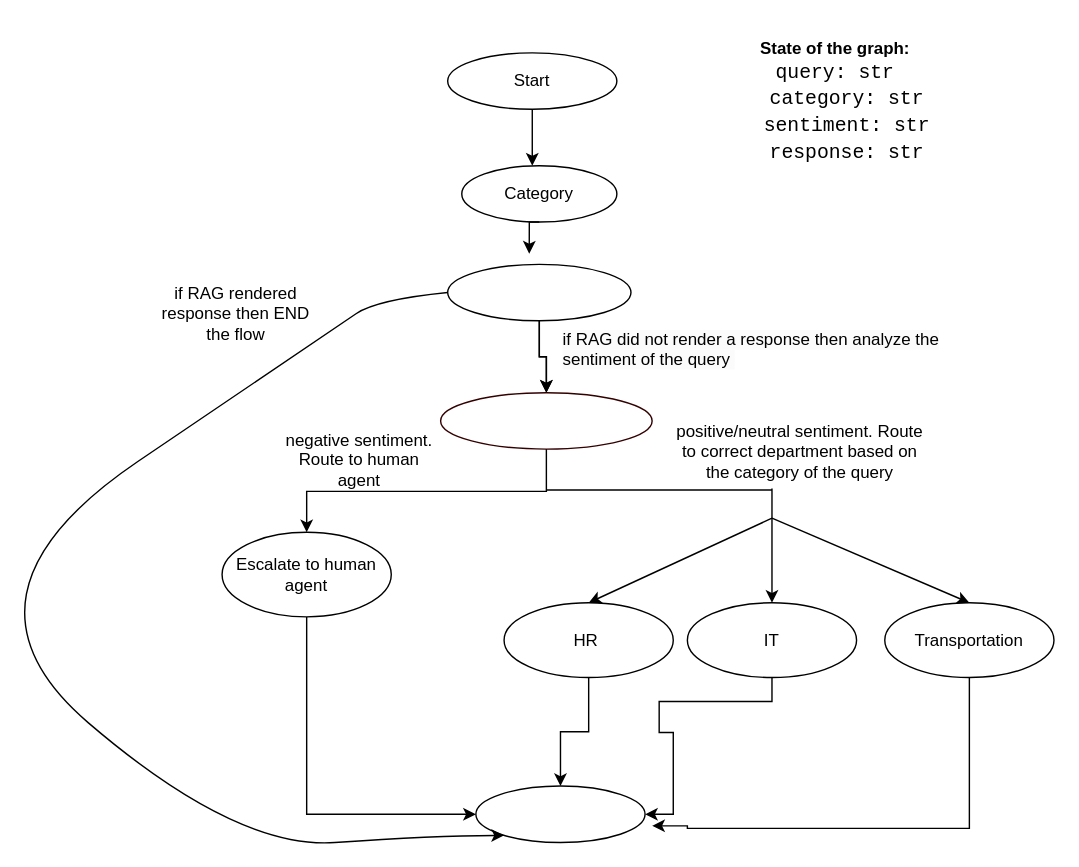
This 1079x867 diagram has some shape labels left out. Each missing label, with the box of its shape:
Analyze sentiment: (439, 391, 652, 449)
End: (474, 785, 645, 842)
RAG: (446, 263, 631, 321)
